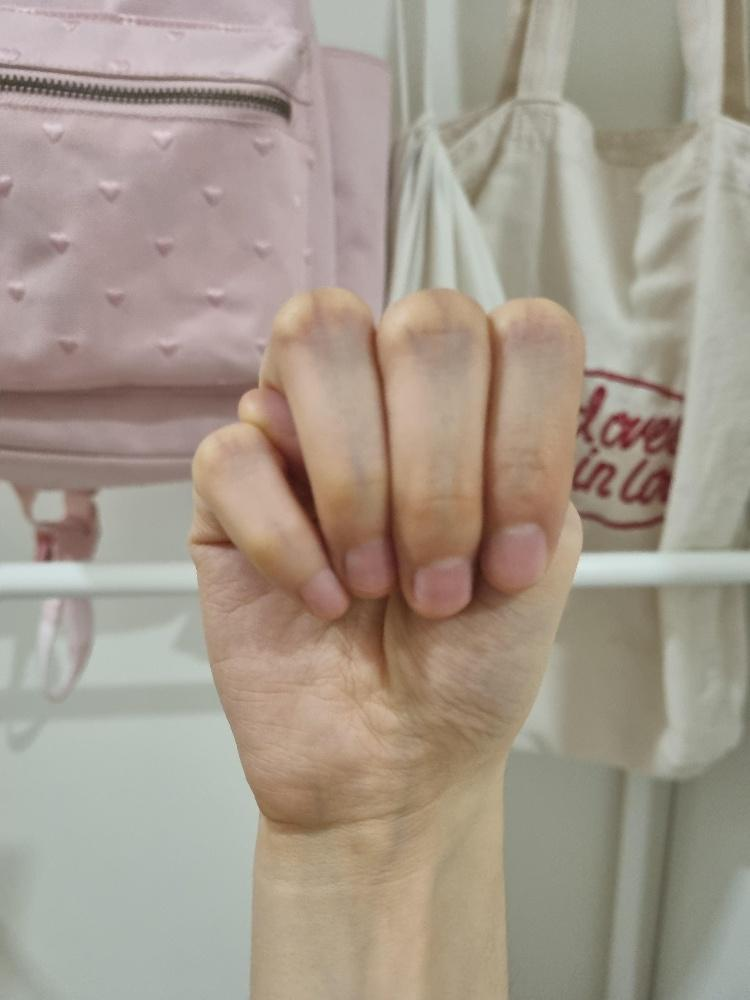m: (188, 283, 588, 830)
